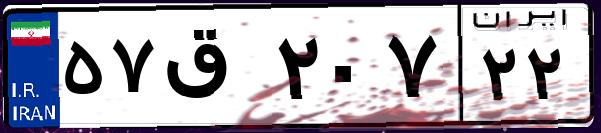0: (330, 28, 385, 110)
2: (270, 28, 330, 110), (475, 38, 525, 113), (525, 38, 570, 115)
5: (57, 26, 110, 100)
7: (385, 28, 445, 110), (110, 28, 158, 98)
ق: (158, 20, 270, 120)
